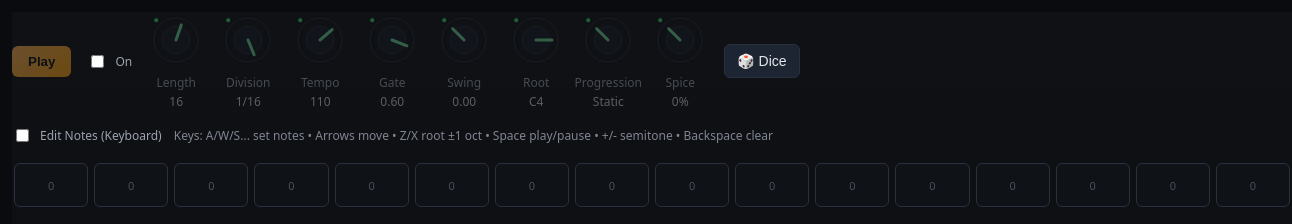
Test: SequencerPanel › surfaces the current root from the engine and renders note names
Click the checkbox labelled "On": (98, 61) [91,54,104,68]
Wait 300 ms
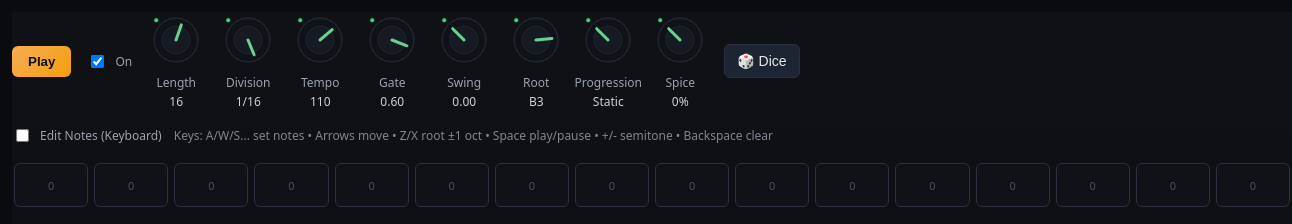
Expected: the text "B3" is shown, [529,93,544,110]
